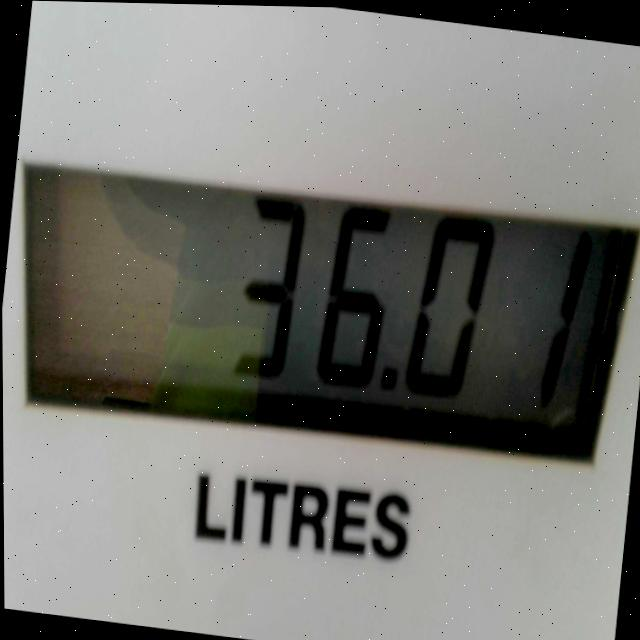.: (378, 361, 401, 398)
0: (405, 209, 499, 396)
1: (539, 221, 590, 404)
3: (231, 183, 312, 378)
6: (316, 197, 395, 387)
